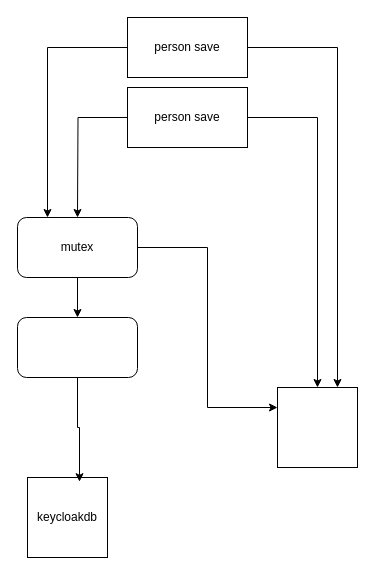
Image size: 375x575. Some labels were removed from this diagram. The centre of each missing label's shape, as x and y in pixels:
db: (317,427)
lock: (77,347)
